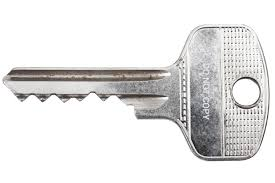kicharina: (2, 21, 272, 162)
